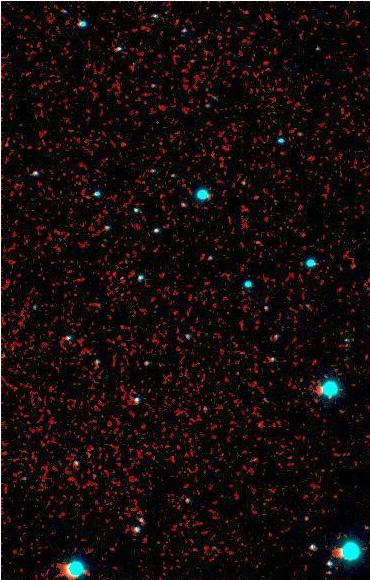star: (246, 410, 276, 440)
